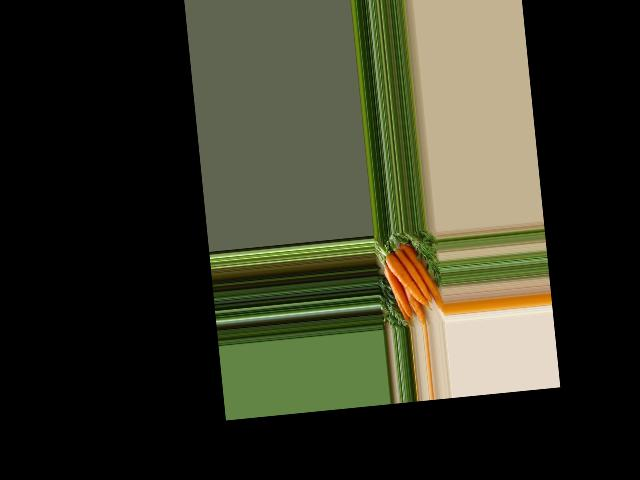carrot: (399, 235, 445, 317)
